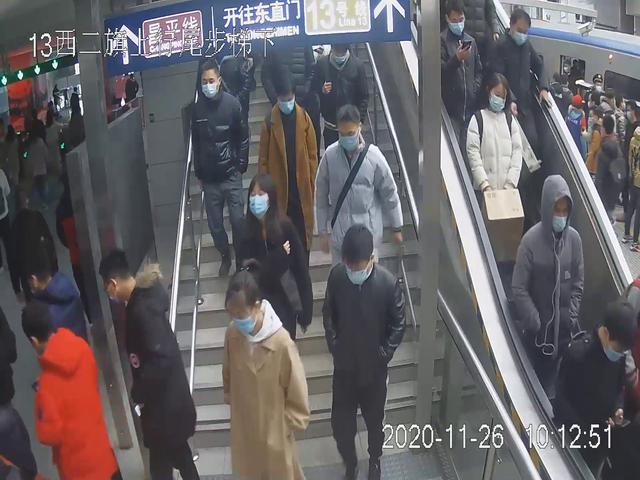person: (96, 248, 205, 480), (319, 223, 408, 480), (219, 258, 317, 480), (313, 101, 407, 314), (507, 174, 587, 413), (21, 300, 122, 480), (229, 171, 317, 372), (181, 57, 255, 281), (459, 69, 530, 274), (257, 72, 323, 286), (484, 7, 552, 165), (433, 1, 486, 174)
